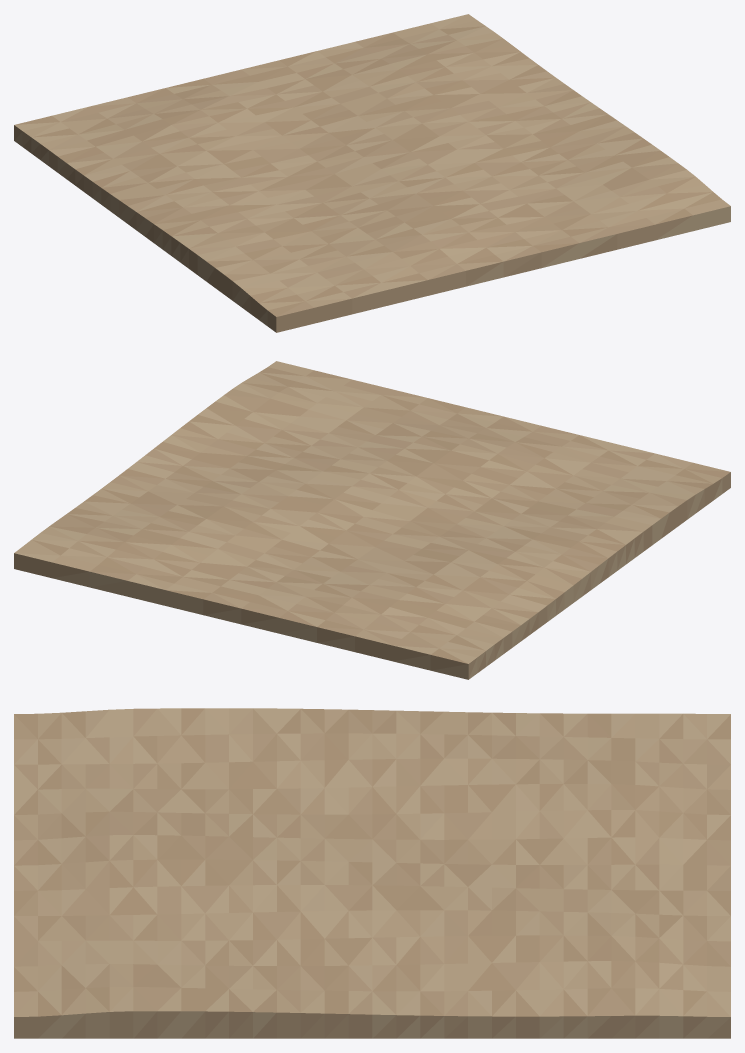
File: 17_dirt_connector.glb
3 views of the same model, one above another, from view 1: azimuth 30°, elevation 25°; view 2: azimuth 150°, elevation 25°; view 3: azimuth 270°, elevation 25° (orthographic). The views are drawn at different scales.
Visible parts, largest first — view 1: ObstacleMesh; view 2: ObstacleMesh; view 3: ObstacleMesh.
Part boxes in pixels (x1=…): ObstacleMesh: x1=14, y1=14, x2=730, y2=332; ObstacleMesh: x1=14, y1=361, x2=730, y2=679; ObstacleMesh: x1=14, y1=708, x2=730, y2=1038.
Size of the model in its own units: 6 by 0.255 by 6.
